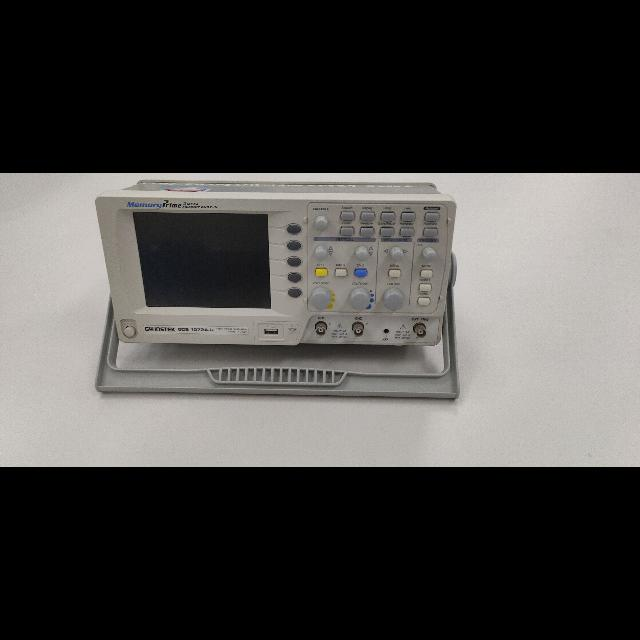Digital-Oscilloscope: (95, 179, 461, 401)
